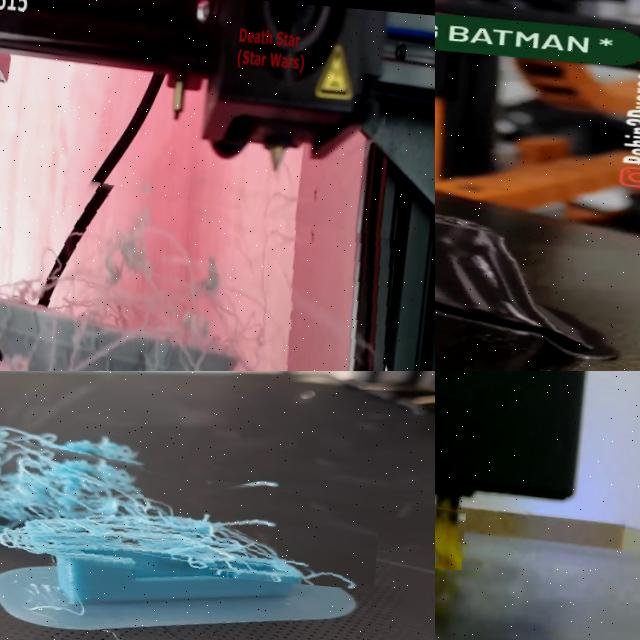spaghetti: (0, 146, 401, 371), (0, 435, 376, 590), (435, 509, 463, 570)
